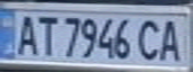4: (97, 15, 118, 60)
6: (112, 16, 136, 61)
7: (60, 12, 81, 57)
9: (78, 15, 100, 60)
A: (157, 16, 187, 63), (12, 11, 39, 57)
C: (136, 16, 166, 62)
T: (33, 11, 60, 57)
